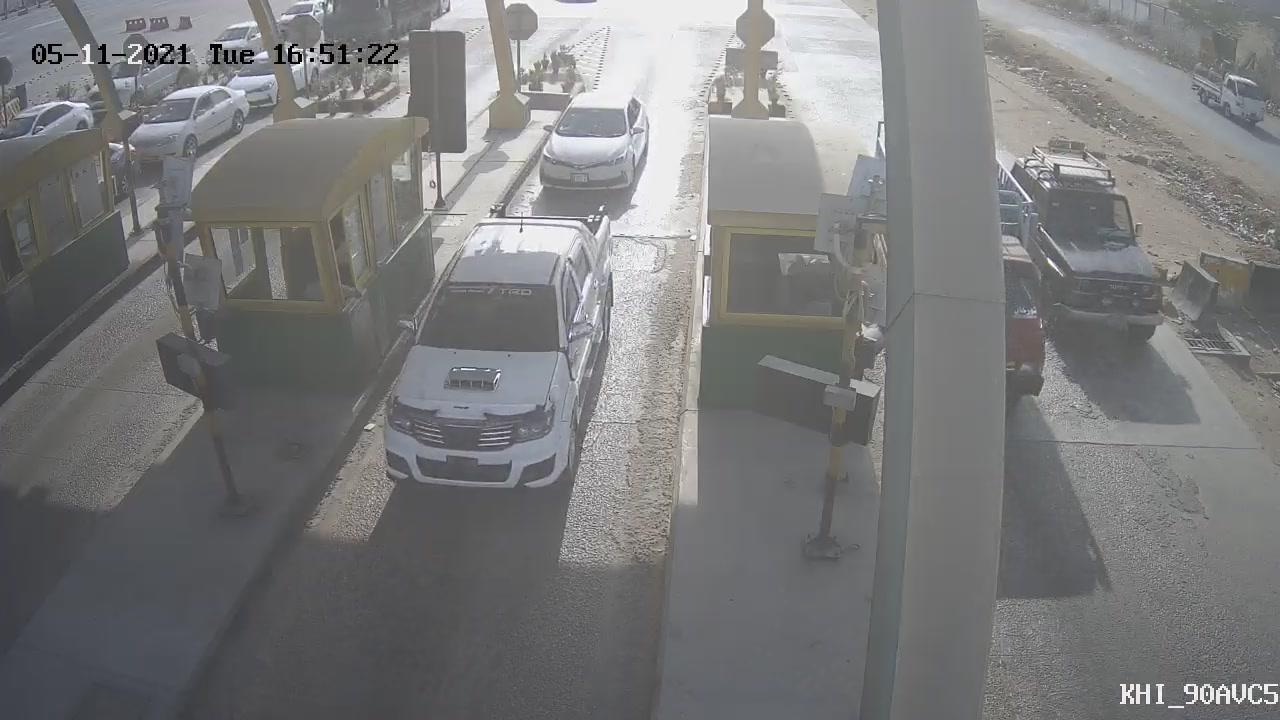F1: (347, 192, 638, 509), (520, 75, 666, 211)
